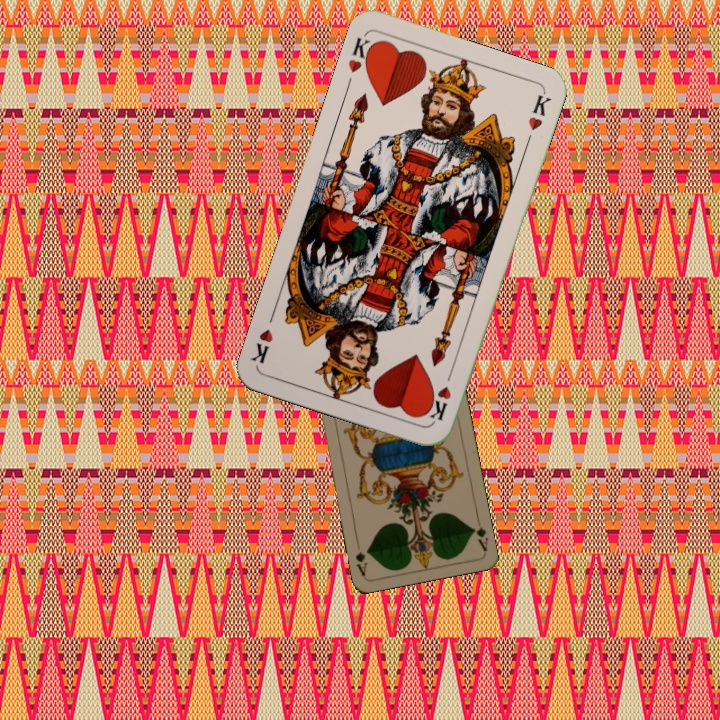GA: (468, 514, 490, 554)
HK: (423, 366, 455, 423), (344, 32, 379, 76)
